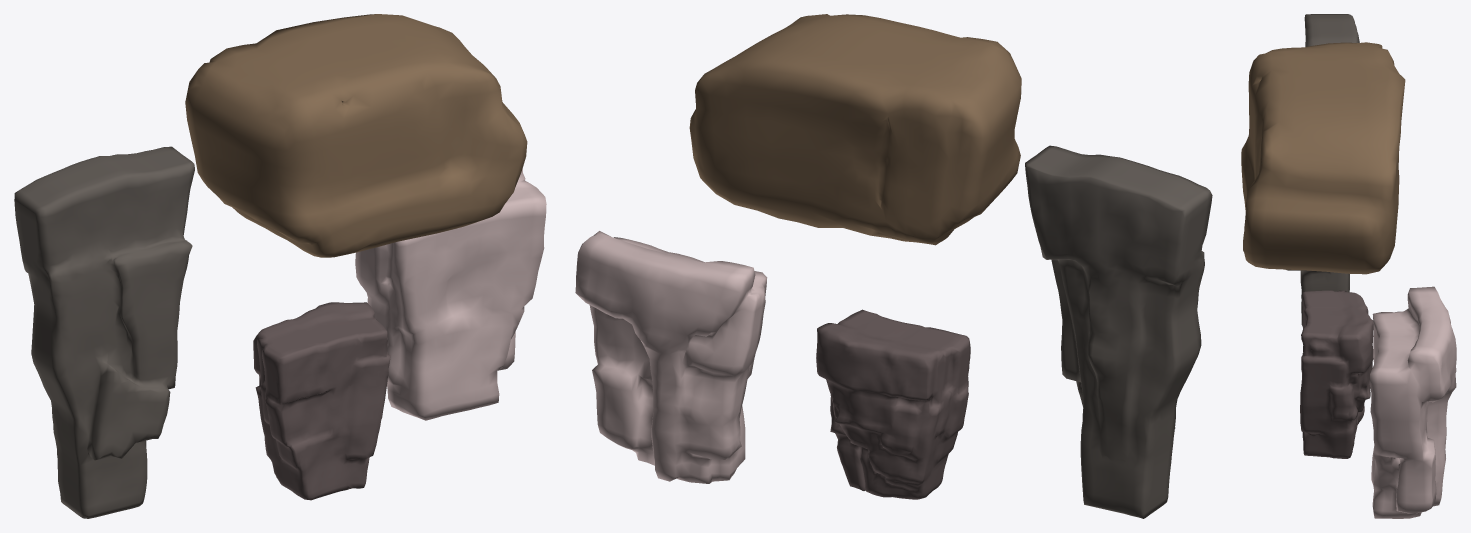
Rendered from rocks_lowpoly.fbx.
3 renders of one model, left to right at view 1: azimuth 30°, elevation 25°; view 2: azimuth 150°, elevation 25°; view 3: azimuth 270°, elevation 25°, orthographic. The views are drawn at different scales.
Parts seen in each view (by area): view 1: pCube45-retopo 1, pCube43-retopo 1, pCube40-retopo 1, pCube39-retopo 1; view 2: pCube45-retopo 1, pCube43-retopo 1, pCube40-retopo 1, pCube39-retopo 1; view 3: pCube45-retopo 1, pCube40-retopo 1, pCube39-retopo 1, pCube43-retopo 1.
Boxes of the visible parts, x1,y1,x2,y2 form: pCube45-retopo 1: (185, 14, 527, 257); pCube43-retopo 1: (14, 146, 194, 518); pCube40-retopo 1: (355, 169, 546, 420); pCube39-retopo 1: (253, 302, 390, 500); pCube45-retopo 1: (689, 14, 1021, 245); pCube43-retopo 1: (1025, 145, 1212, 518); pCube40-retopo 1: (575, 231, 767, 483); pCube39-retopo 1: (816, 309, 970, 499); pCube45-retopo 1: (1241, 42, 1405, 274); pCube40-retopo 1: (1369, 286, 1456, 518); pCube39-retopo 1: (1300, 290, 1373, 458); pCube43-retopo 1: (1286, 14, 1359, 325).
Bounding box in the file's own units: 36.19 × 26.91 × 14.19.
